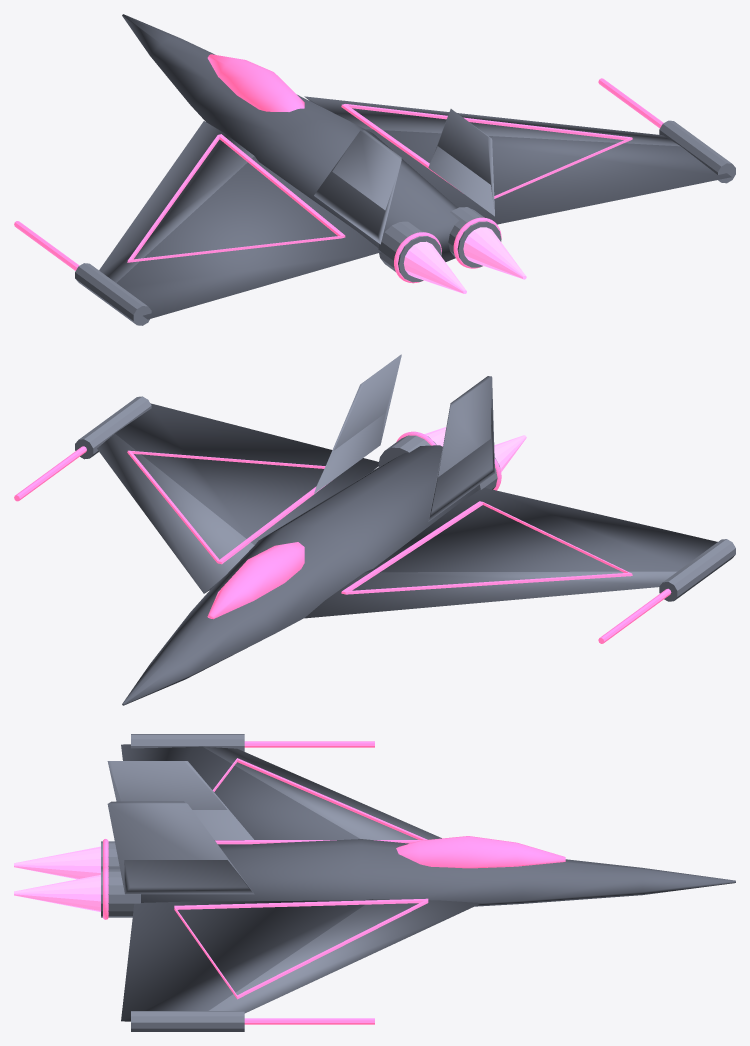
Rendered from Enemigo_Ligero.glb.
3 views of the same model, one above another, from view 1: azimuth 30°, elevation 25°; view 2: azimuth 150°, elevation 25°; view 3: azimuth 270°, elevation 25° (orthographic). The views are drawn at different scales.
Visible parts, largest first — view 1: Alas_Halcon_-1.0, Alas_Halcon_1.0, Fuselaje_Halcon, Deriva_Halcon_-1.0, Deriva_Halcon_1.0, Visor_Halcon, Canal_Delta_Halcon_-1.0, Canal_Delta_Halcon_1.0, Cylinder, propulsor.001, propulsor, Cylinder.002 (+4 smaller); view 2: Alas_Halcon_-1.0, Alas_Halcon_1.0, Fuselaje_Halcon, Deriva_Halcon_-1.0, Deriva_Halcon_1.0, Visor_Halcon, Canal_Delta_Halcon_-1.0, Canal_Delta_Halcon_1.0, Cylinder, Cylinder.002, Tobera_Halcon_0.25_Shroud, Cylinder.003 (+2 smaller); view 3: Alas_Halcon_1.0, Fuselaje_Halcon, Alas_Halcon_-1.0, Deriva_Halcon_1.0, Deriva_Halcon_-1.0, Visor_Halcon, Canal_Delta_Halcon_1.0, Cylinder.002, propulsor.001, propulsor, Cylinder, Canal_Delta_Halcon_-1.0 (+3 smaller).
Boxes of the visible parts, left/top/right/bottom form: Alas_Halcon_-1.0: left=99, top=121, right=381, bottom=319; Alas_Halcon_1.0: left=304, top=96, right=731, bottom=224; Fuselaje_Halcon: left=122, top=14, right=459, bottom=261; Deriva_Halcon_-1.0: left=314, top=130, right=401, bottom=244; Deriva_Halcon_1.0: left=428, top=109, right=494, bottom=216; Visor_Halcon: left=207, top=54, right=304, bottom=111; Canal_Delta_Halcon_-1.0: left=127, top=134, right=345, bottom=262; Canal_Delta_Halcon_1.0: left=341, top=104, right=632, bottom=198; Cylinder: left=75, top=263, right=151, bottom=325; propulsor.001: left=463, top=227, right=526, bottom=279; propulsor: left=403, top=241, right=466, bottom=293; Cylinder.002: left=659, top=120, right=735, bottom=183; Alas_Halcon_-1.0: left=304, top=488, right=717, bottom=618; Alas_Halcon_1.0: left=97, top=403, right=379, bottom=593; Fuselaje_Halcon: left=122, top=445, right=478, bottom=705; Deriva_Halcon_-1.0: left=428, top=376, right=494, bottom=521; Deriva_Halcon_1.0: left=314, top=354, right=401, bottom=493; Visor_Halcon: left=207, top=542, right=304, bottom=619; Canal_Delta_Halcon_-1.0: left=341, top=501, right=632, bottom=594; Canal_Delta_Halcon_1.0: left=127, top=450, right=327, bottom=564; Cylinder: left=659, top=539, right=735, bottom=601; Cylinder.002: left=75, top=396, right=151, bottom=459; Tobera_Halcon_0.25_Shroud: left=378, top=435, right=436, bottom=466; Cylinder.003: left=14, top=446, right=86, bottom=501; Alas_Halcon_1.0: left=121, top=899, right=481, bottom=1021; Fuselaje_Halcon: left=141, top=839, right=735, bottom=906; Alas_Halcon_-1.0: left=121, top=744, right=441, bottom=845; Deriva_Halcon_1.0: left=107, top=801, right=254, bottom=894; Deriva_Halcon_-1.0: left=107, top=761, right=253, bottom=839; Visor_Halcon: left=396, top=836, right=565, bottom=868; Canal_Delta_Halcon_1.0: left=174, top=898, right=428, bottom=999; Cylinder.002: left=131, top=1011, right=244, bottom=1031; propulsor.001: left=14, top=875, right=100, bottom=911; propulsor: left=14, top=846, right=100, bottom=879; Cylinder: left=131, top=734, right=244, bottom=751; Canal_Delta_Halcon_-1.0: left=212, top=758, right=427, bottom=844.
Size of the model in its own units: 5.05 by 1.01 by 5.4.
